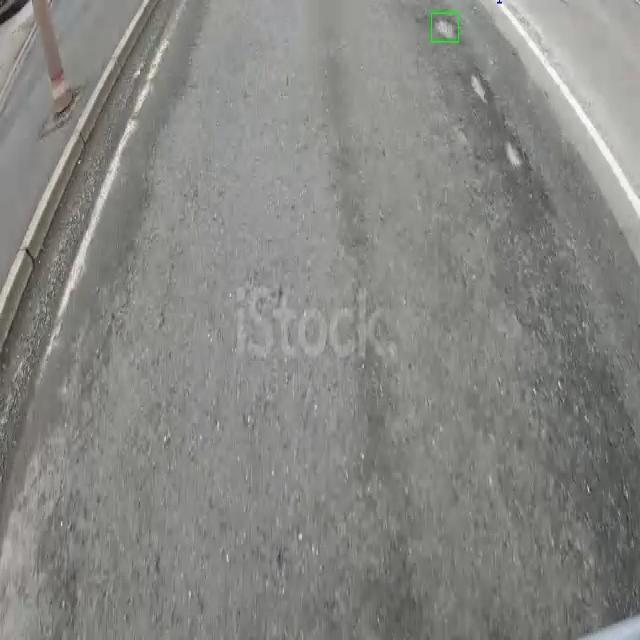pothole: (464, 61, 496, 112), (498, 130, 528, 177), (432, 14, 458, 39)
